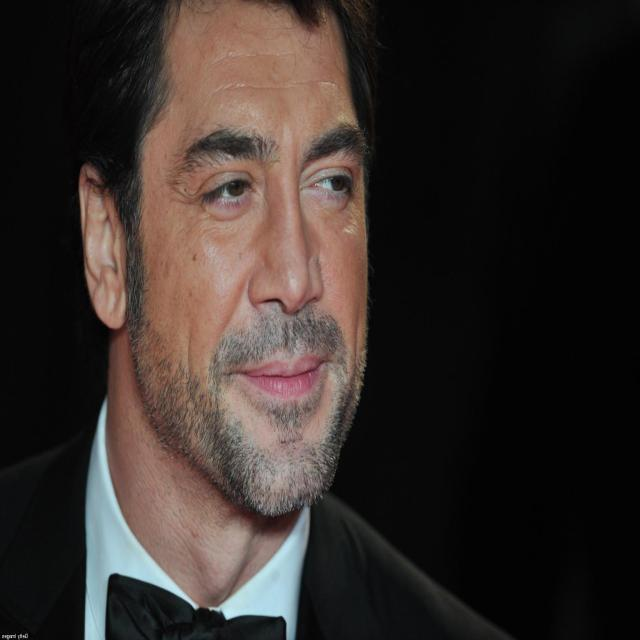no-earmuff: (78, 160, 134, 329)
